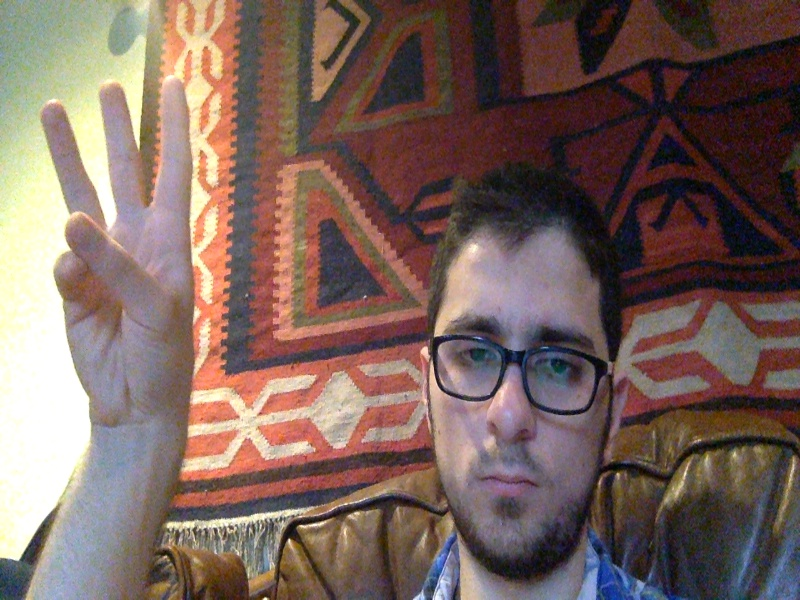3-hand: (39, 79, 195, 418)
